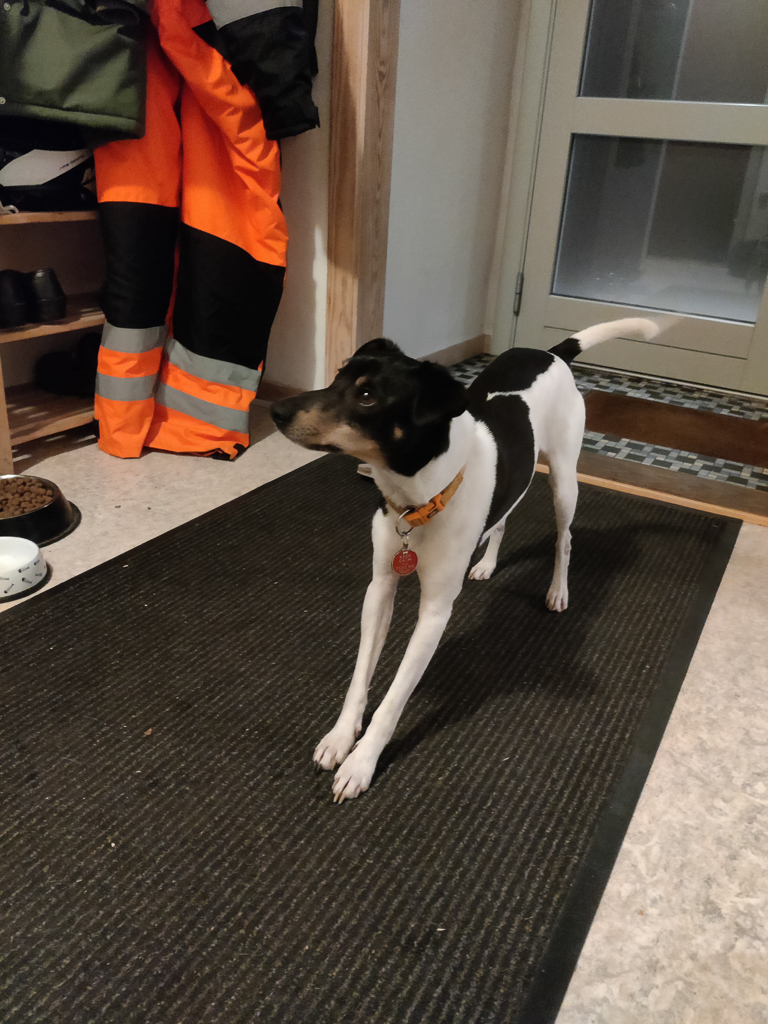Dog: (249, 305, 679, 823)
